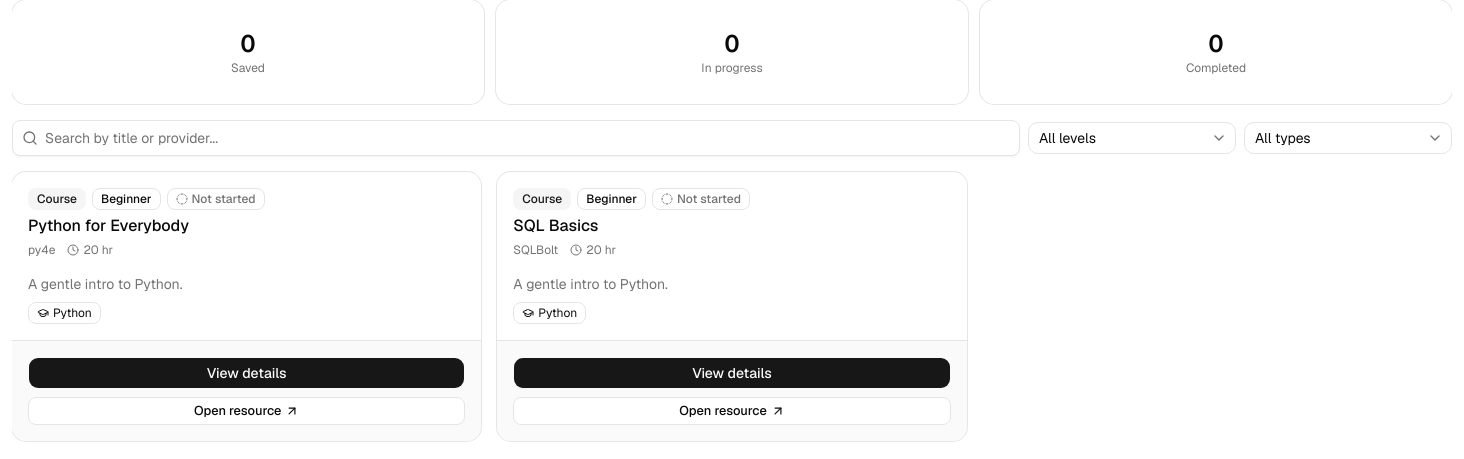
Test case: LearningBrowseView › filters the visible list client-side by the title/provider search, without re-requesting
Expected: the text "Python for Everybody" is shown, [28,215,189,236]
In the field named "Search learning resources": (516, 138) [12,120,1020,156], type "sql basics"
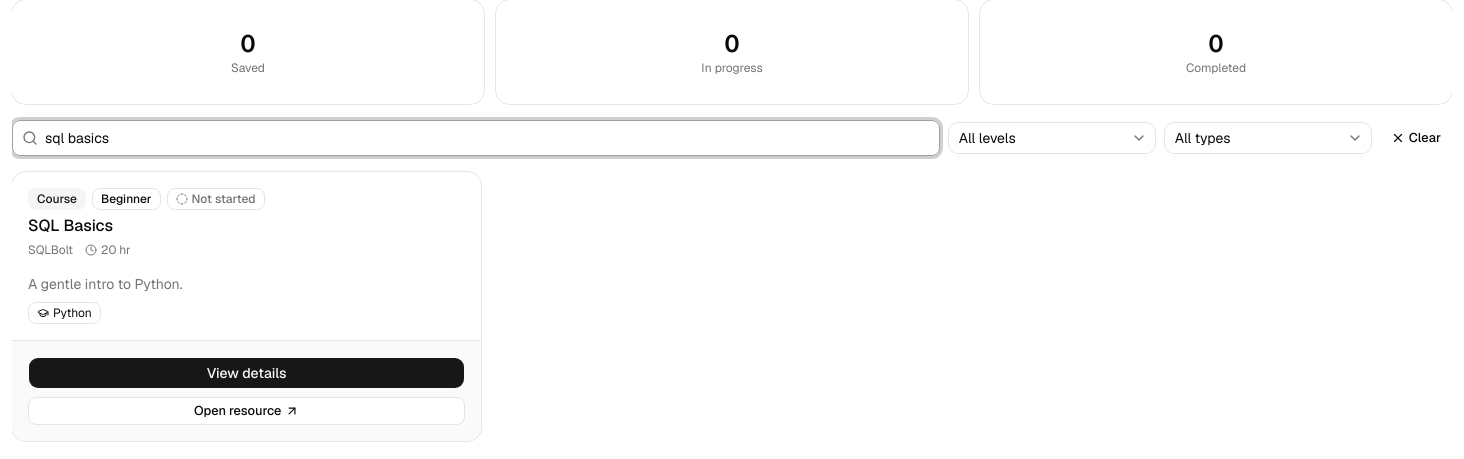
Expected: the text "SQL Basics" is shown, [28,215,113,236]
Expected: the text "Python for Everybody" is gone
